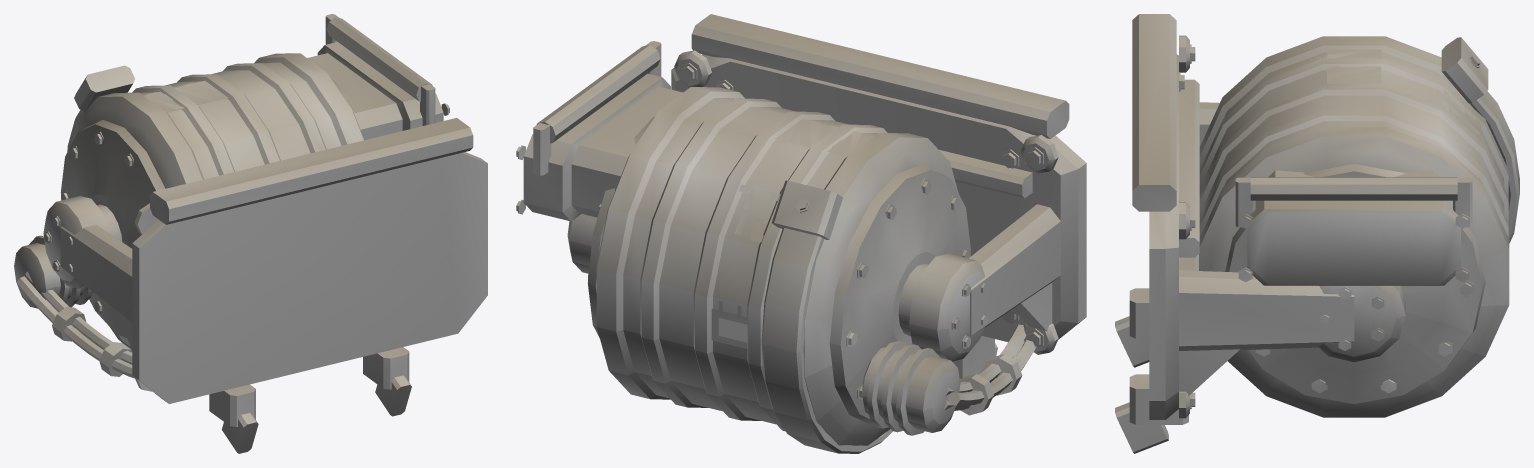
The model's file is ammo-drum-half-left.glb.
The picture shows the model from 3 angles, left to right: view 1: azimuth 30°, elevation 25°; view 2: azimuth 150°, elevation 25°; view 3: azimuth 270°, elevation 25°; orthographic projection. The views are drawn at different scales.
Parts seen in each view (by area): view 1: Body; view 2: Body; view 3: Body.
Part boxes in pixels (x1,y1,x2,y2): Body: (14,14,487,453); Body: (516,14,1086,453); Body: (1115,14,1519,453).
Size of the model in its own units: 0.9647 by 0.7206 by 0.8206.
